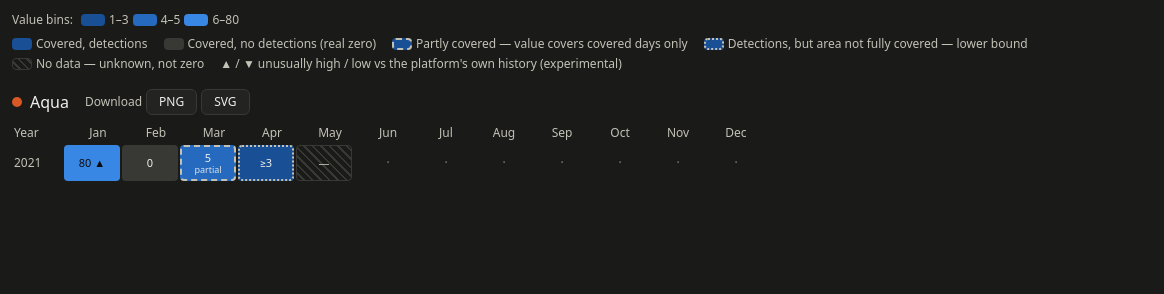
CalendarHeatmap › describes a cell in words and shows details when selected
The image size is (1164, 294).
Click the button named "Jan 2021: Covered, detections; 80 detections; 31/31 days covered; unusually high (modified z 6.70)" at (92, 163), box 64,145 -> 120,181
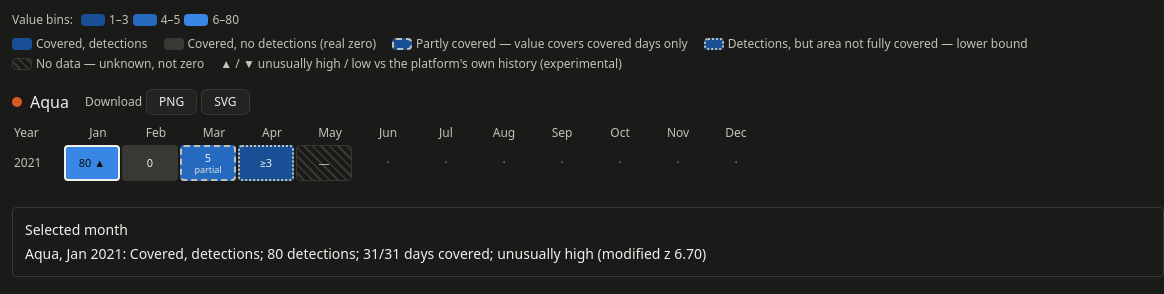
Expected: the heading "Selected month" is shown, 25,220 -> 128,239
